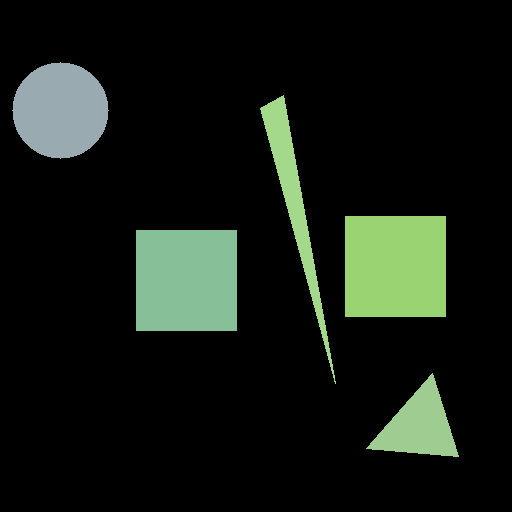circle: (12, 62, 108, 158)
square: (136, 230, 236, 330), (345, 216, 445, 316)
triangle: (260, 95, 335, 383), (366, 373, 458, 456)
